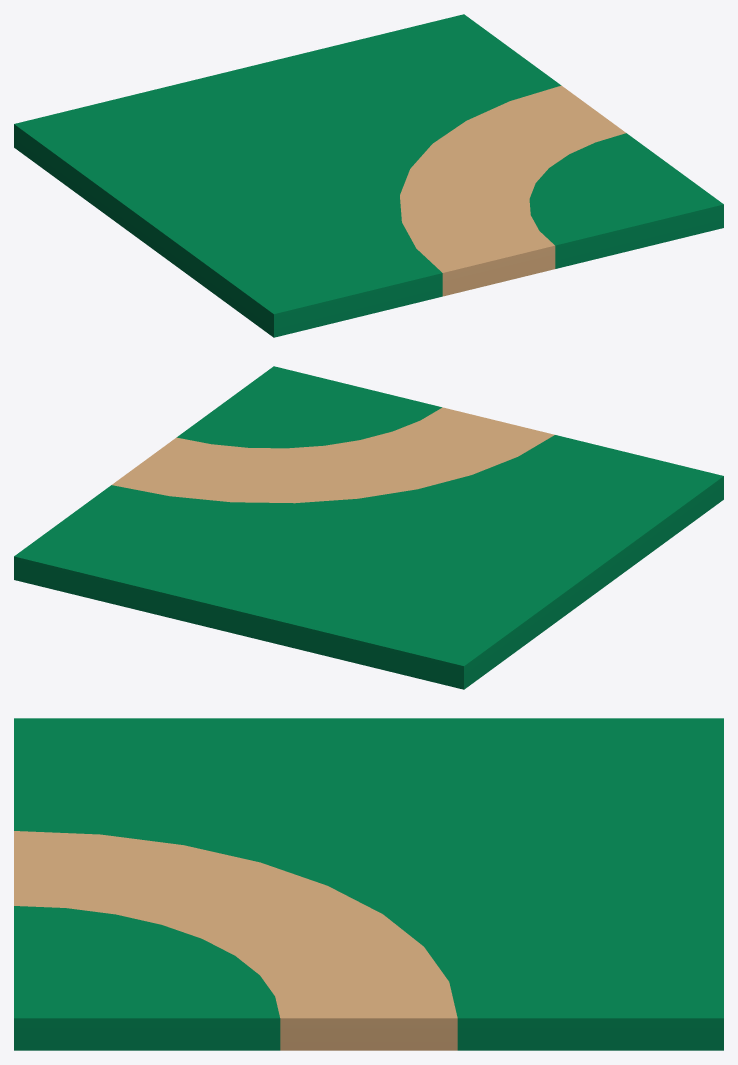
The model's file is park_road_corner.glb.
3 views of the same model, one above another, from view 1: azimuth 30°, elevation 25°; view 2: azimuth 150°, elevation 25°; view 3: azimuth 270°, elevation 25° (orthographic). The views are drawn at different scales.
Parts seen in each view (by area): view 1: park_road_corner; view 2: park_road_corner; view 3: park_road_corner.
Part boxes in pixels (bbox=[...]): park_road_corner: bbox=[14, 14, 723, 337]; park_road_corner: bbox=[14, 366, 723, 689]; park_road_corner: bbox=[14, 718, 723, 1050].
Bounding box in the file's own units: 2 × 0.1 × 2.
Materials: 1 (1 with a texture image).
